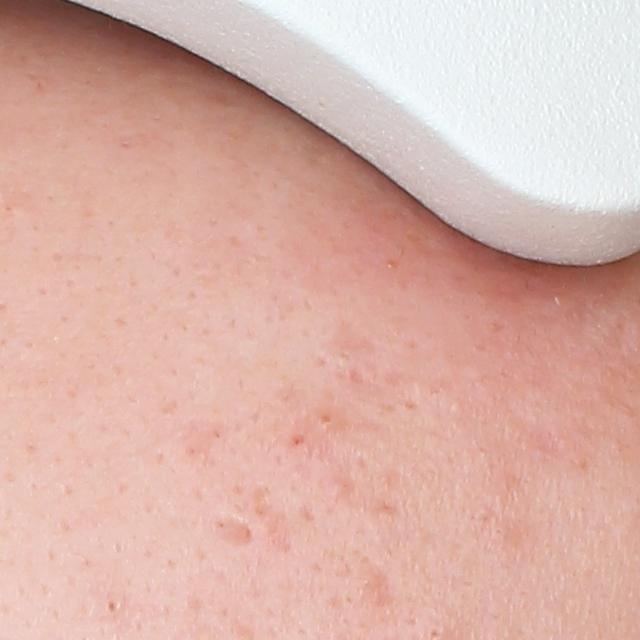atrophic_scar: (248, 482, 294, 557), (216, 513, 259, 546)
comedo: (101, 597, 122, 617), (318, 412, 334, 427)
